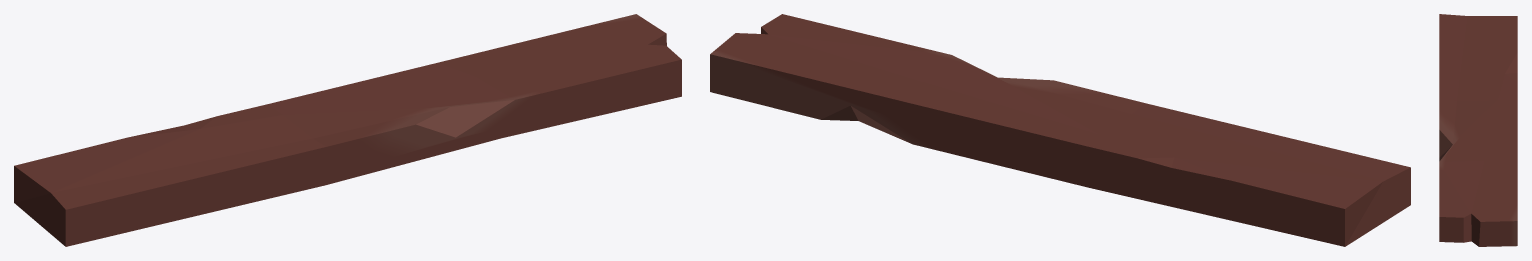
Rendered from SM_Gen_Prop_Plank_02.glb.
3 renders of one model, left to right at view 1: azimuth 30°, elevation 25°; view 2: azimuth 150°, elevation 25°; view 3: azimuth 270°, elevation 25°, orthographic. The views are drawn at different scales.
Parts seen in each view (by area): view 1: SM_Gen_Prop_Plank_02; view 2: SM_Gen_Prop_Plank_02; view 3: SM_Gen_Prop_Plank_02.
Part boxes in pixels (<box>): SM_Gen_Prop_Plank_02: <box>14,14,681,246</box>; SM_Gen_Prop_Plank_02: <box>710,14,1410,246</box>; SM_Gen_Prop_Plank_02: <box>1439,14,1517,246</box>.
Bounding box in the file's own units: 1.77 × 0.1097 × 0.2813.
Materials: 1 (1 with a texture image).
